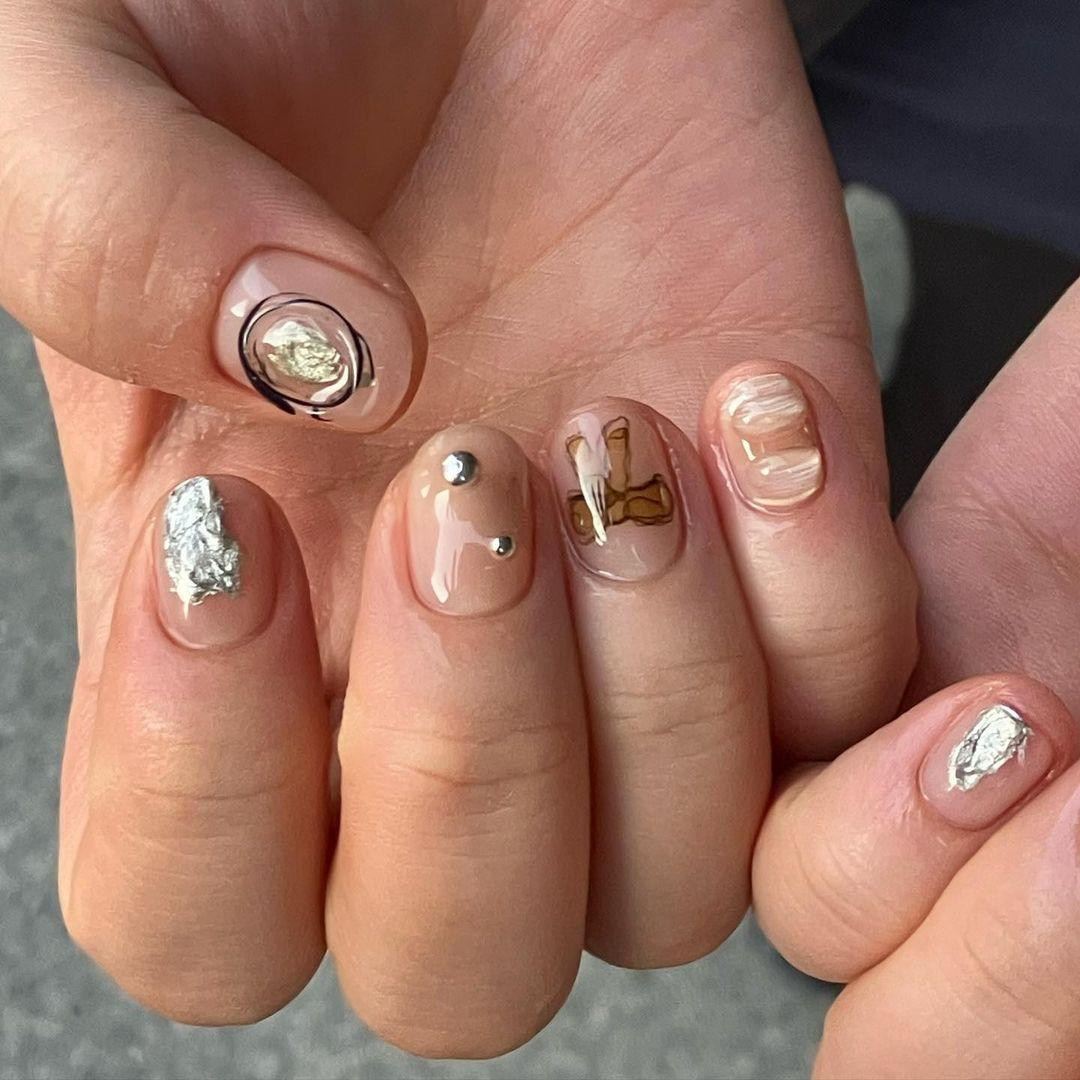nail: (210, 242, 420, 433), (402, 421, 535, 617), (554, 400, 683, 581), (150, 473, 278, 650), (916, 697, 1055, 829), (715, 368, 827, 512)
